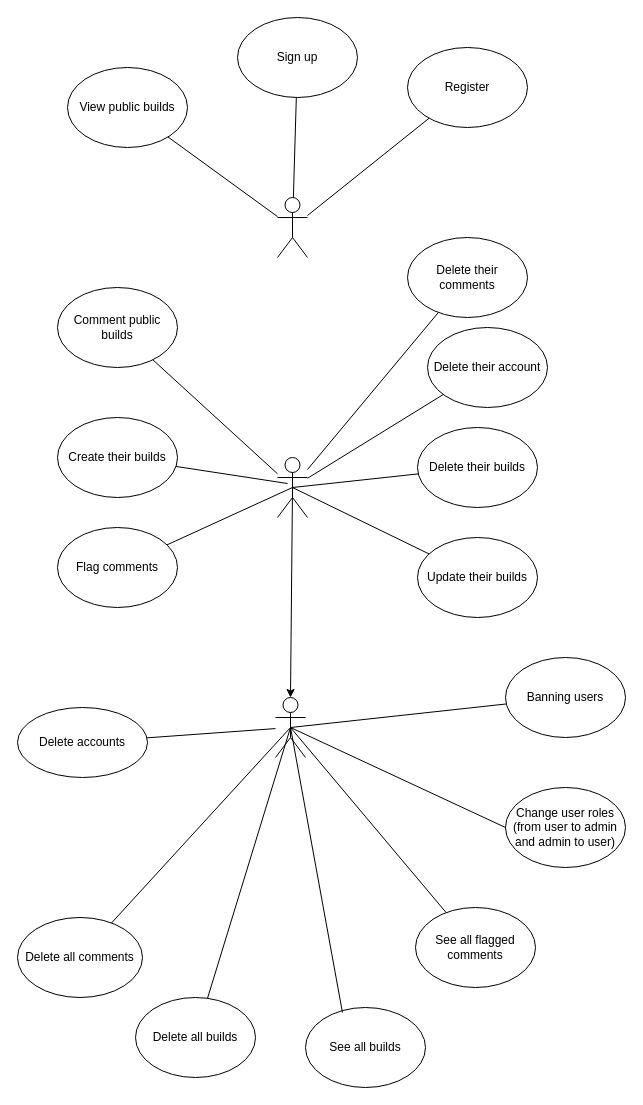
Image size: 643x1105. Some labels were removed from this diagram. The shapes that lost their labels are listed below. From the top down, each one's box as (x1, y1, x2, y2) in pixels, then its label:
(276, 196, 308, 258): Unlogged user
(276, 456, 308, 518): Logged User
(274, 696, 306, 758): Admin
